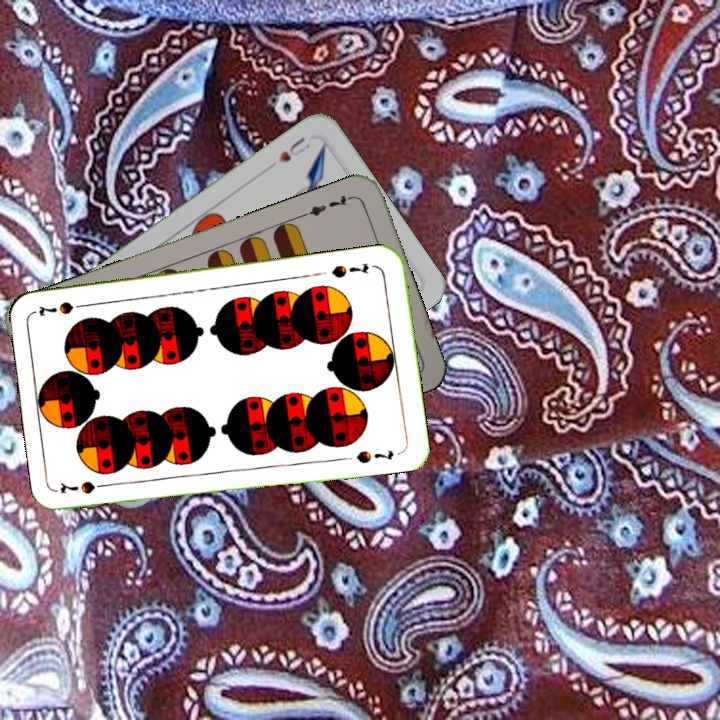E7: (299, 191, 357, 219)
HU: (274, 133, 313, 165)
S7: (56, 477, 115, 497), (327, 259, 371, 281)
